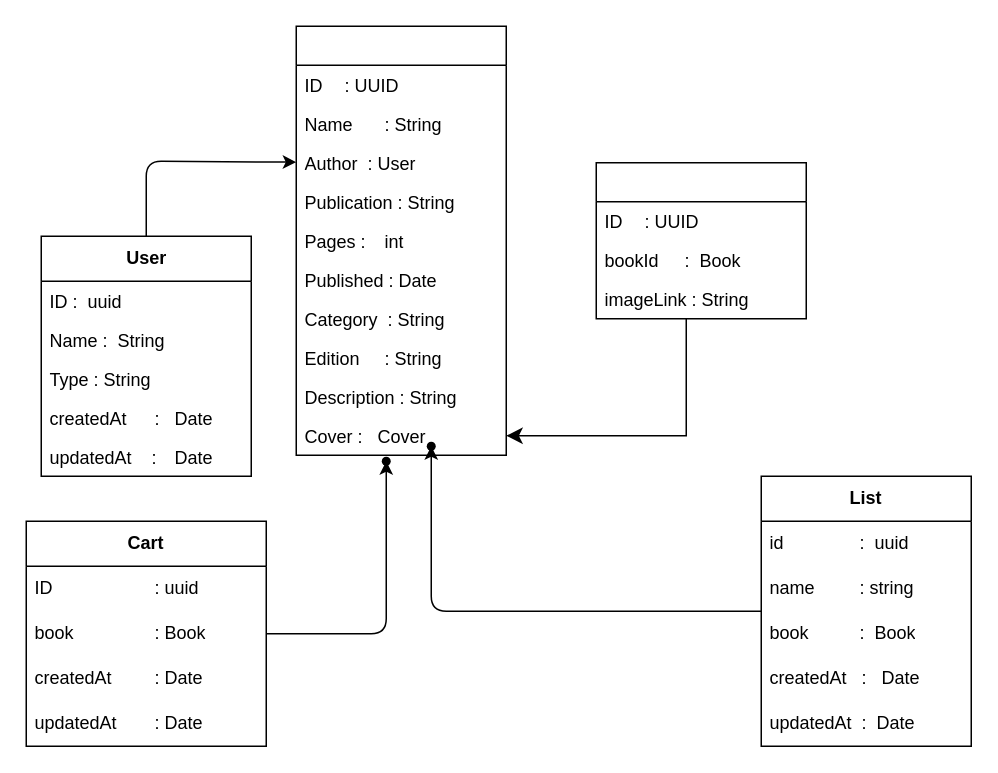
Some shapes in this 998 by 773 pixel diagram are drawn without their labels. Here are the shapes that lost their labels. From the top down, the box of each, then its label:
(295, 25, 506, 455): Book
(595, 161, 806, 319): Cover
